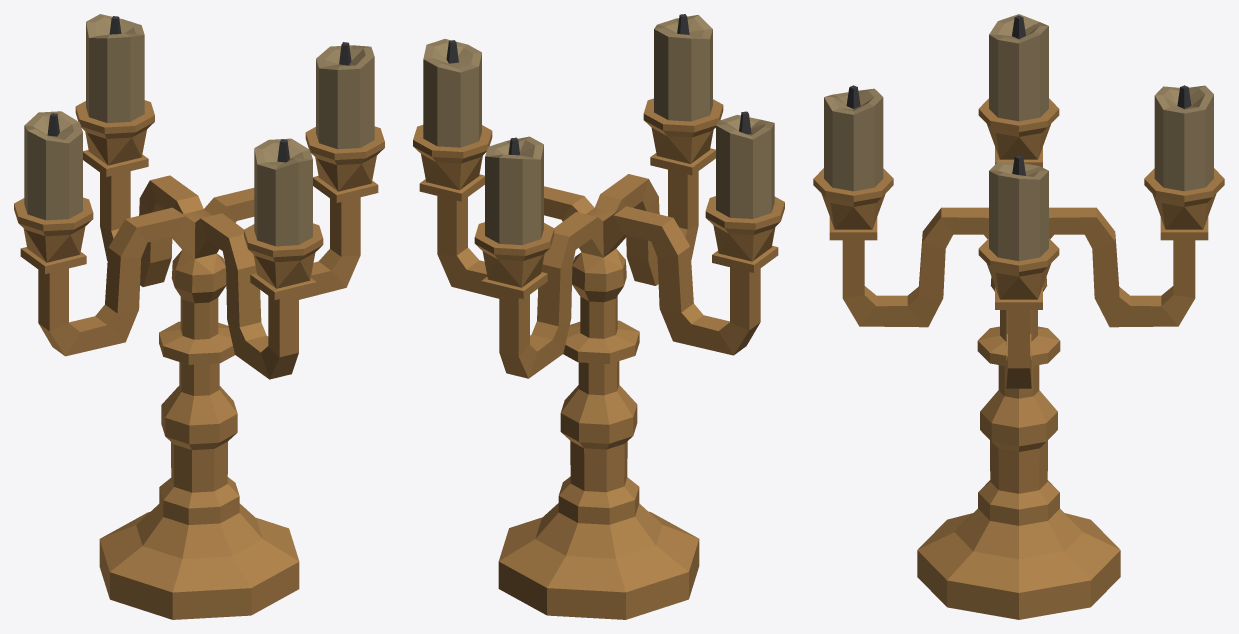
Rendered from SM_Item_Candelabra_02.glb.
3 views of the same model, side by side, from view 1: azimuth 30°, elevation 25°; view 2: azimuth 150°, elevation 25°; view 3: azimuth 270°, elevation 25° (orthographic). The views are drawn at different scales.
Visible parts, largest first — view 1: SM_Item_Candelabra_02; view 2: SM_Item_Candelabra_02; view 3: SM_Item_Candelabra_02.
Boxes of the visible parts, x1=… form: SM_Item_Candelabra_02: x1=14, y1=14, x2=384, y2=619; SM_Item_Candelabra_02: x1=413, y1=14, x2=784, y2=619; SM_Item_Candelabra_02: x1=813, y1=14, x2=1224, y2=619.
Bounding box in the file's own units: 0.00432 × 0.00568 × 0.00432.
